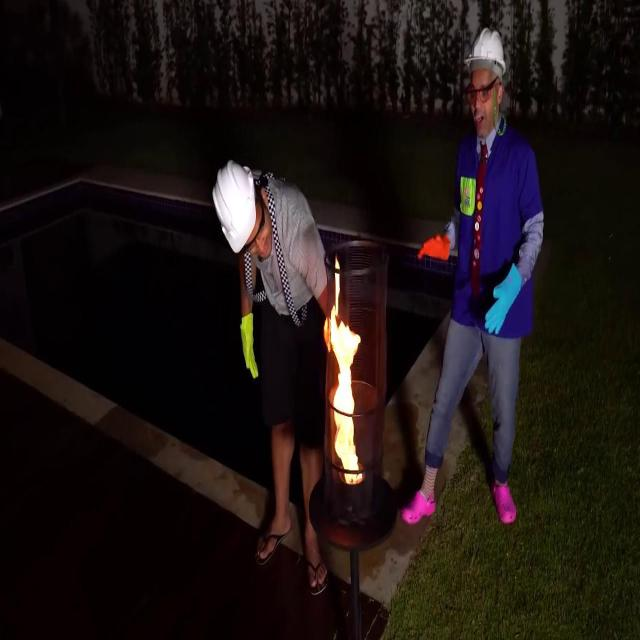Fire: (328, 270, 367, 478)
